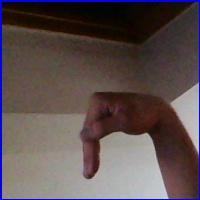A: (75, 88, 177, 184)
